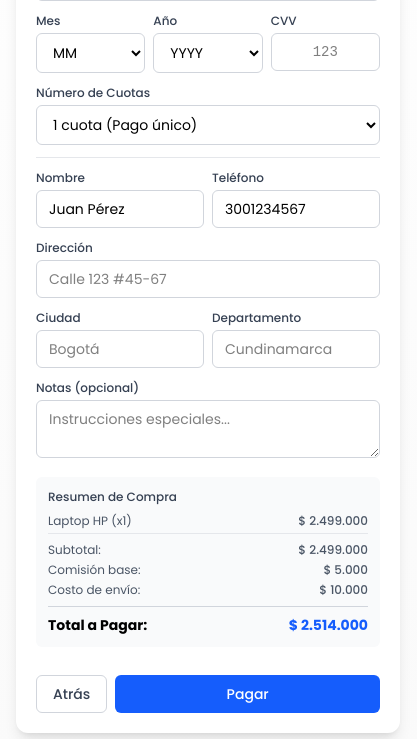
Test: PaymentPage › should show validation errors for empty required fields
(page scrolled)
Click the button "Pagar": coordinates (248, 694) x1=115 y1=675 x2=380 y2=713
(page scrolled)
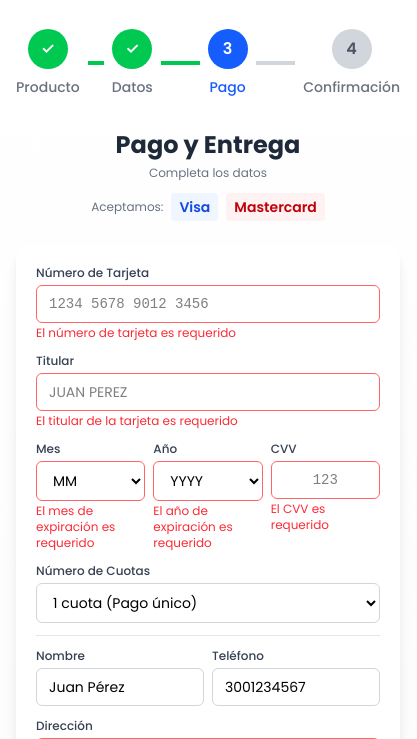
Expected: the text "El número de tarjeta es requerido" is shown, x1=36 y1=324 x2=236 y2=341
